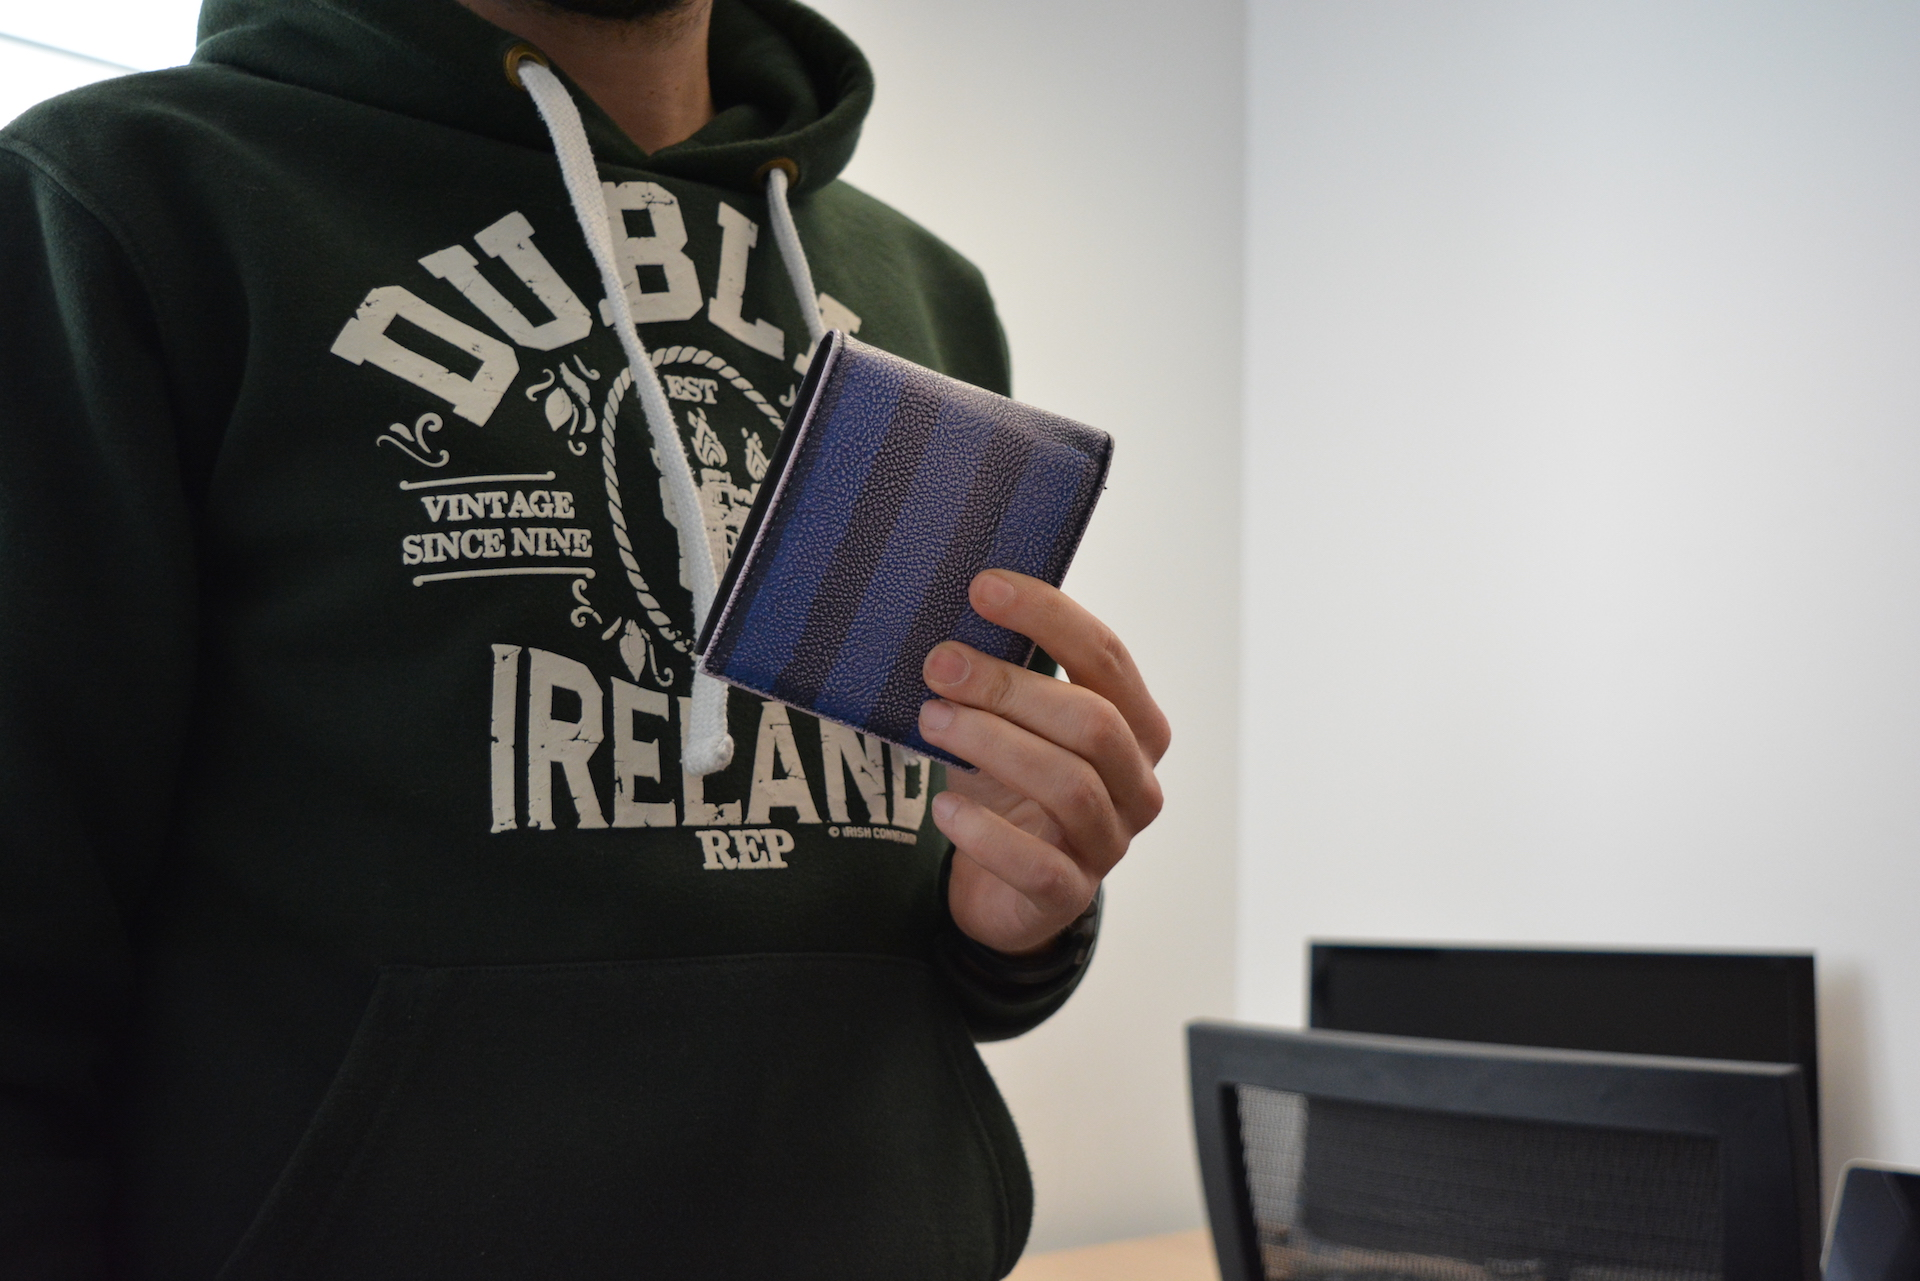monedero: (692, 325, 1119, 778)
